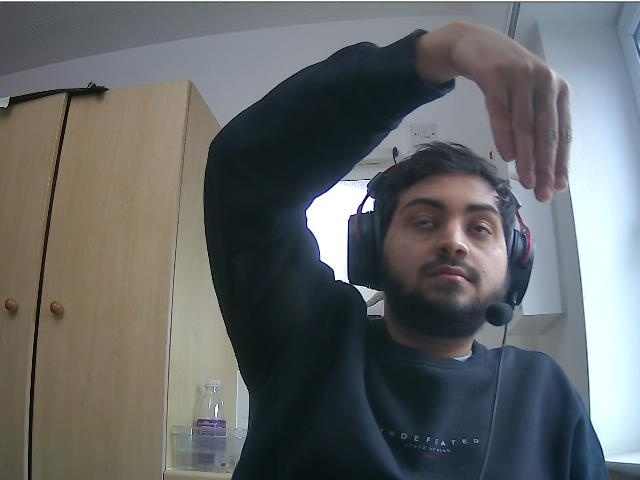down: (478, 19, 574, 203)
